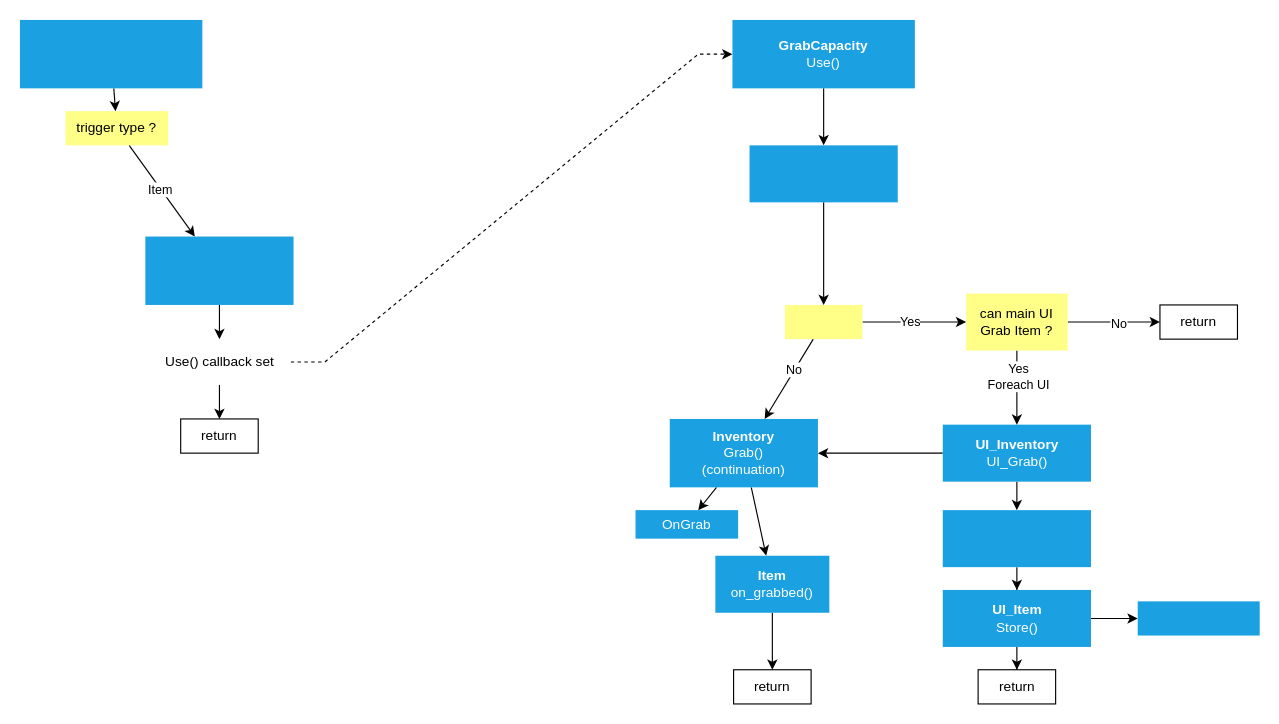
The diagram is 1279 pixels wide and 724 high, and some of its shapes have lost their labels. Here are the shapes that lost their labels. From the top down, the centre of each, then its label:
(x=110, y=53): InteractCapacity OnTriggerEnter2D()
(x=823, y=173): Inventory Grab()
(x=219, y=270): GrabCapacity Select()
(x=823, y=321): has UI ?
(x=1016, y=538): UI_ItemPool Grab()
(x=1198, y=618): OnItemChanged
